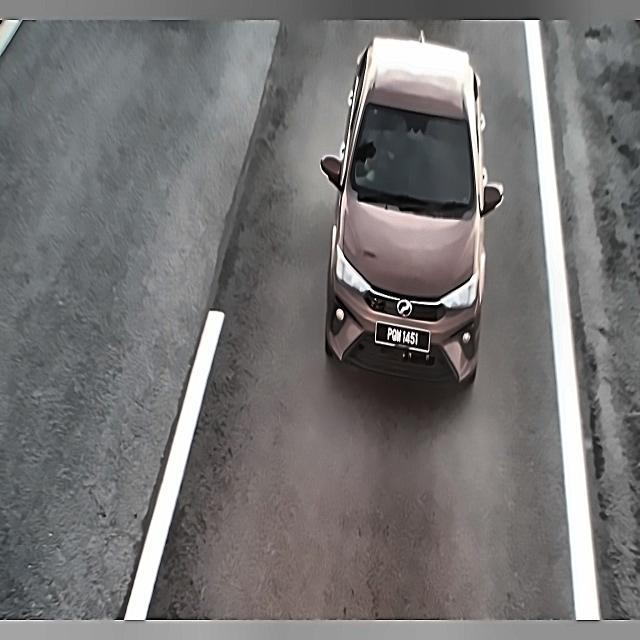car: (374, 315, 434, 357)
